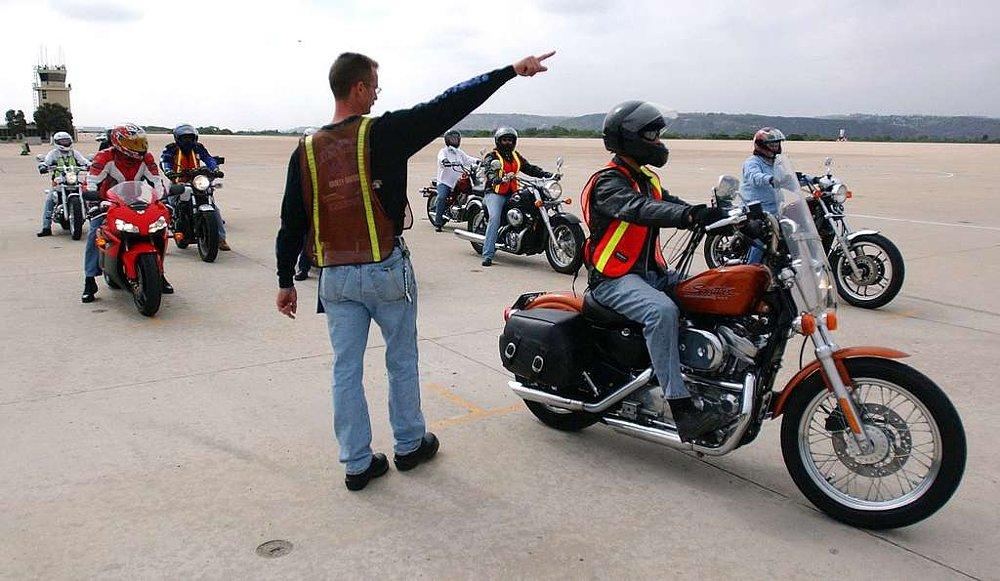helmet: (602, 99, 669, 169), (110, 121, 149, 162), (752, 126, 786, 159), (173, 123, 199, 153), (494, 126, 518, 154), (53, 132, 73, 152), (443, 128, 461, 149)
nohelmet: (328, 50, 380, 119)
